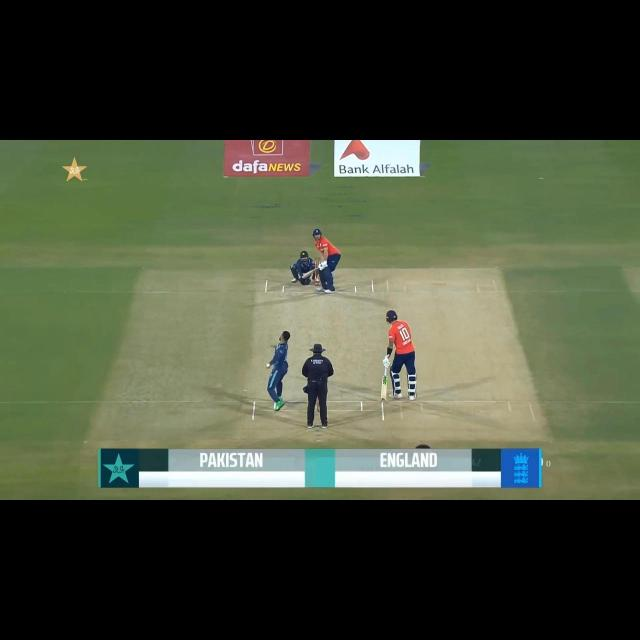bat: (302, 266, 320, 280), (381, 376, 387, 402)
toe: (302, 275, 308, 280), (381, 397, 386, 402)
